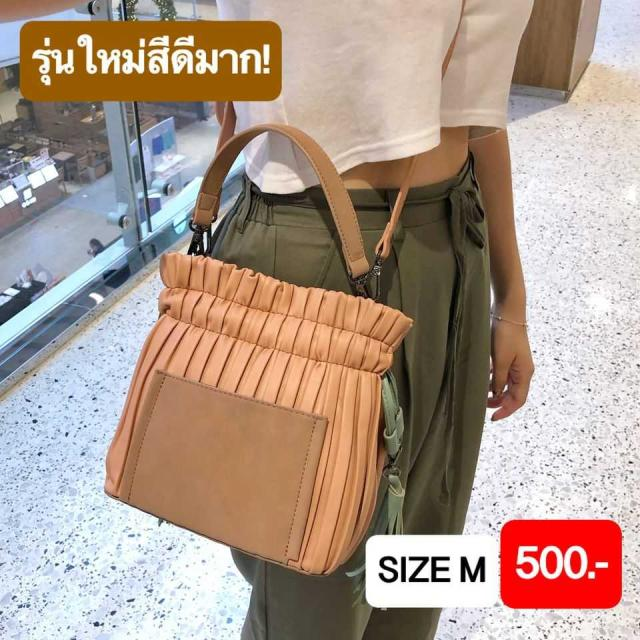Handbag: (104, 101, 442, 603)
